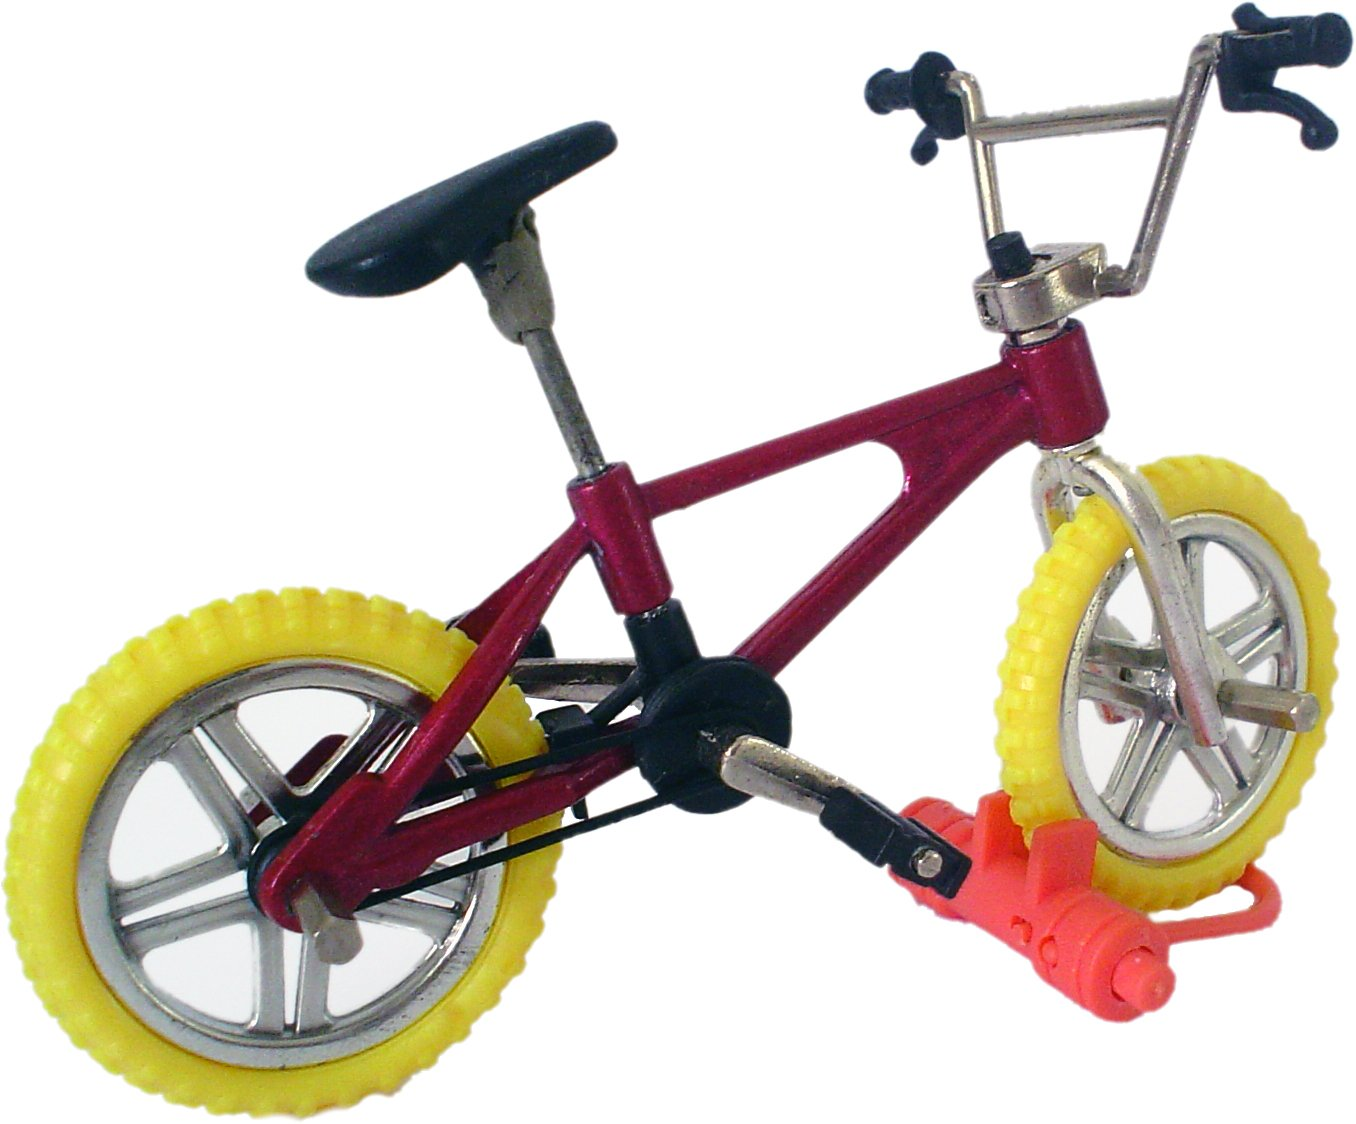Bicycle: (8, 52, 1300, 1096)
